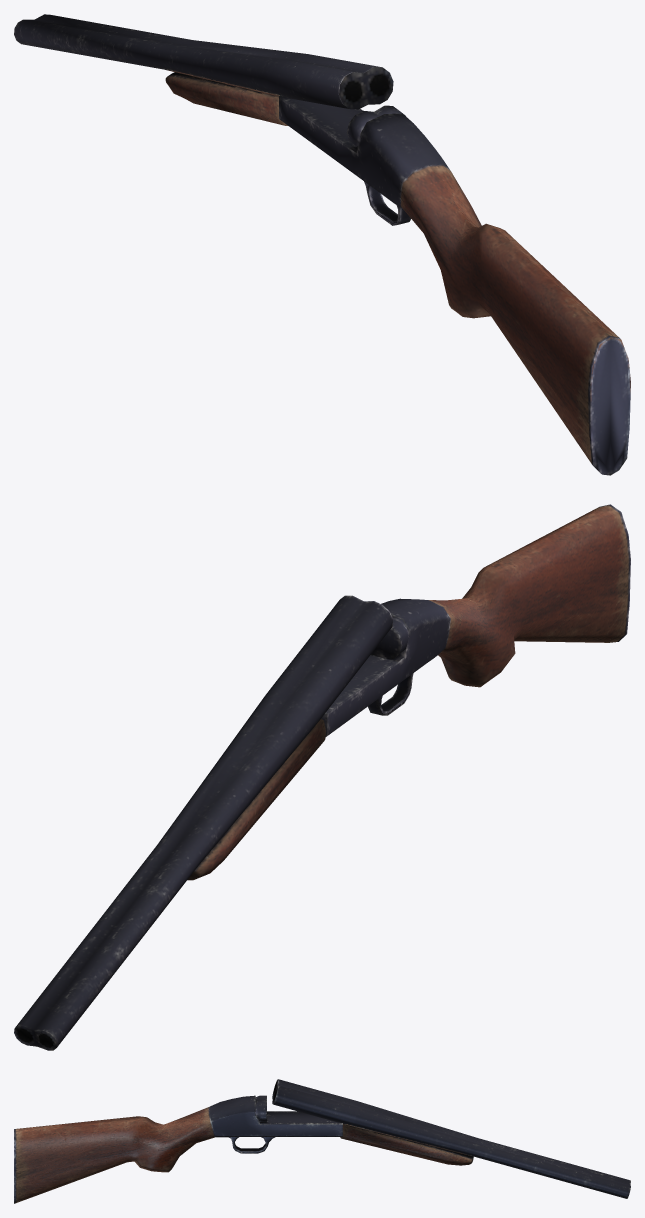
Rendered from DoubleBarrel_OPEN.fbx.
3 views of the same model, one above another, from view 1: azimuth 30°, elevation 25°; view 2: azimuth 150°, elevation 25°; view 3: azimuth 270°, elevation 25° (orthographic). The views are drawn at different scales.
Visible parts, largest first — view 1: DoubleBarrel_Open; view 2: DoubleBarrel_Open; view 3: DoubleBarrel_Open.
Boxes of the visible parts, x1,y1,x2,y2 form: DoubleBarrel_Open: (14,14,630,475); DoubleBarrel_Open: (14,504,630,1050); DoubleBarrel_Open: (14,1079,630,1203).
Size of the model in its own units: 0.0311 by 0.569 by 0.1226.
